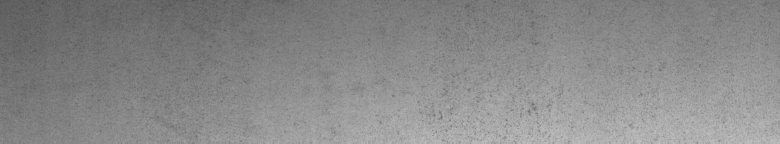ib: (425, 20, 548, 132)
